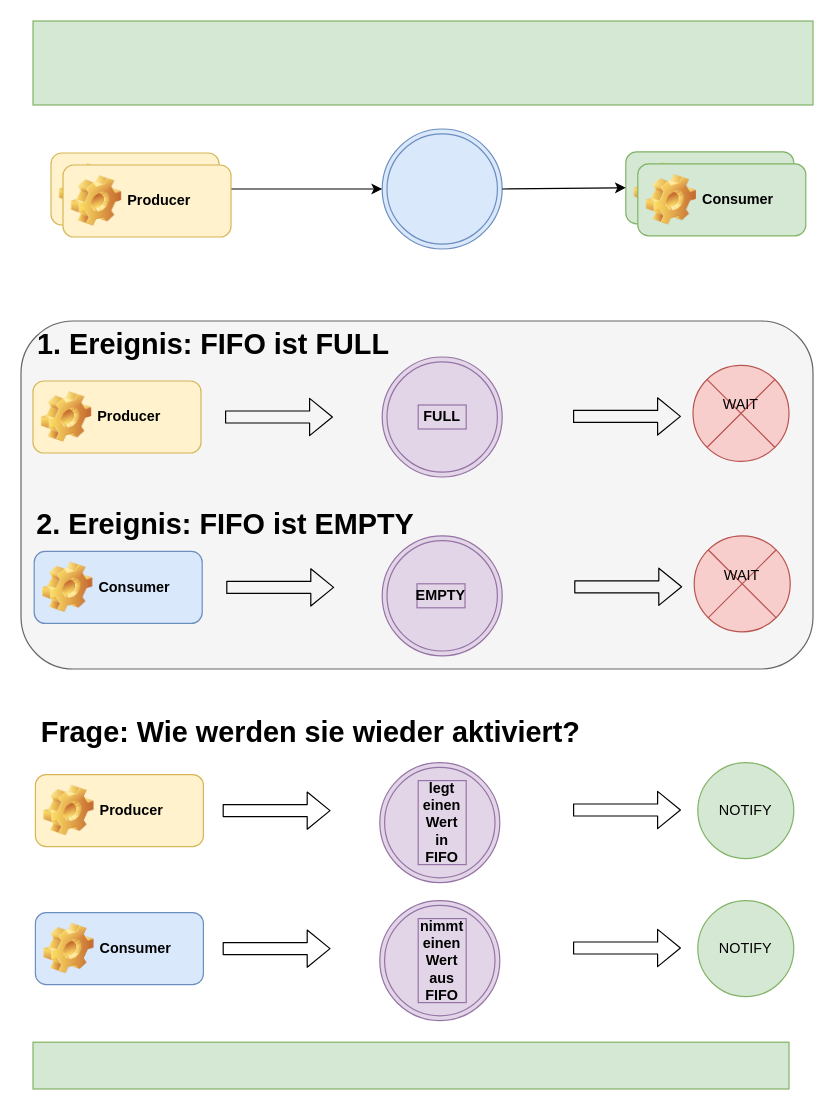
Some shapes in this 834 by 1110 pixel diagram are drawn without their labels. The centre of each missing label's shape, as x and y in pixels:
Ereignis-Synchronisation Producer/Consumer: (422,62)
FIFO: (441,188)
wait() und notify() werden durch Semaphore implementiert: (410,1065)
